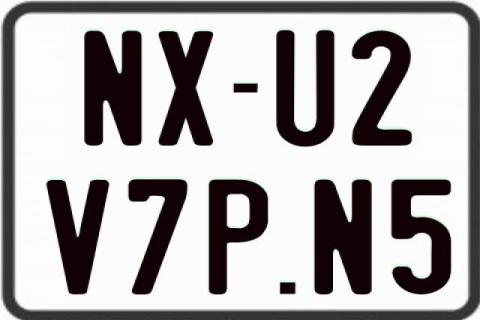0: (352, 30, 416, 150), (388, 180, 452, 296), (128, 180, 187, 298)
N: (313, 177, 375, 297), (84, 30, 142, 146)
P: (208, 178, 273, 294)
U: (276, 30, 336, 148)
V: (44, 180, 110, 294)
X: (158, 30, 216, 146)
